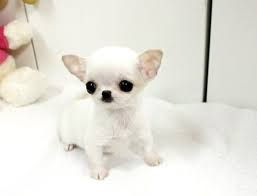chihuahua: (45, 35, 184, 180)
